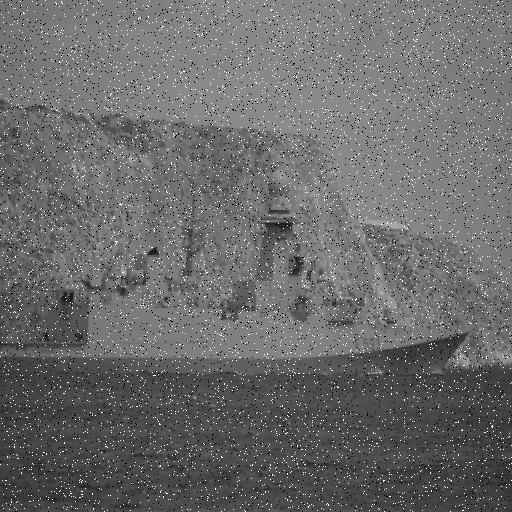Fragata: (1, 159, 470, 381)
